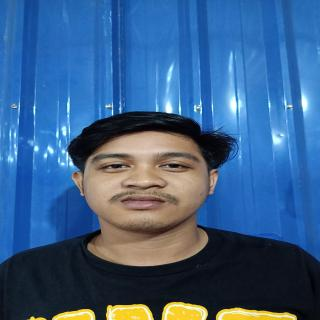Netral: (77, 120, 216, 237)
